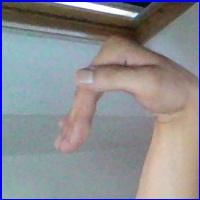del: (45, 27, 184, 166)
